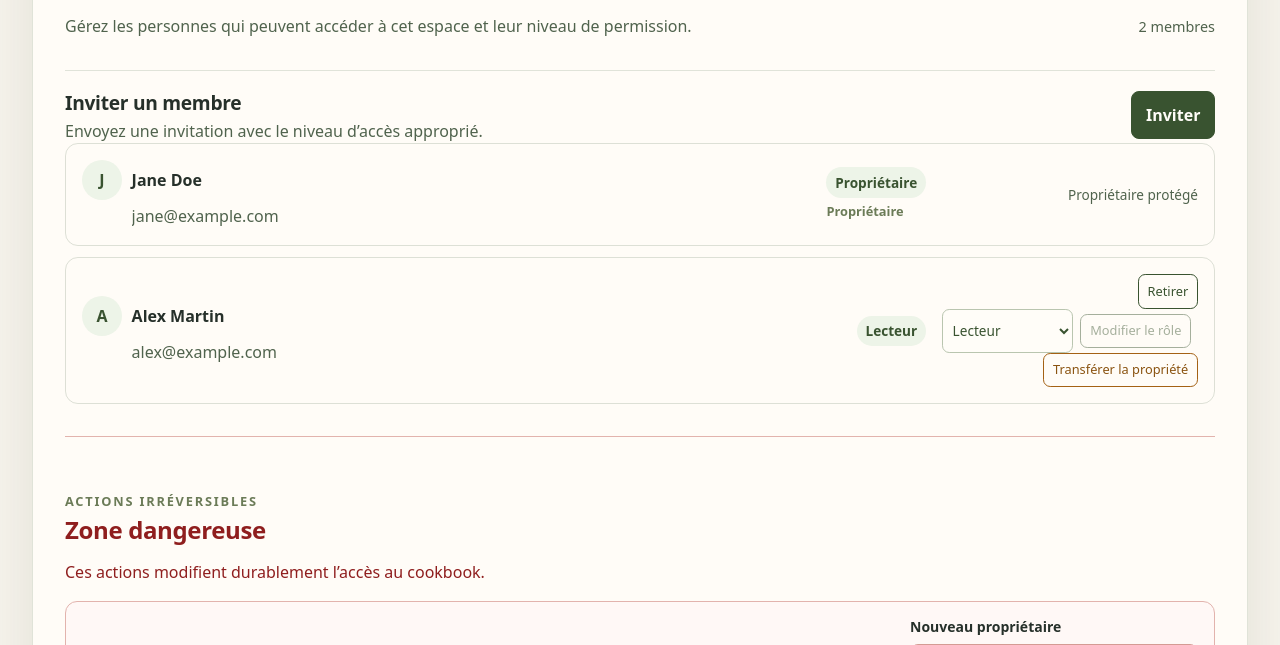
Scenario: CookbookView › keeps the confirmation dialog open and announces an authorization error
(page scrolled)
Select "Commentateur" in the dropdown with id "member-role-8" at (1008, 331), box x1=942 y1=309 x2=1073 y2=353
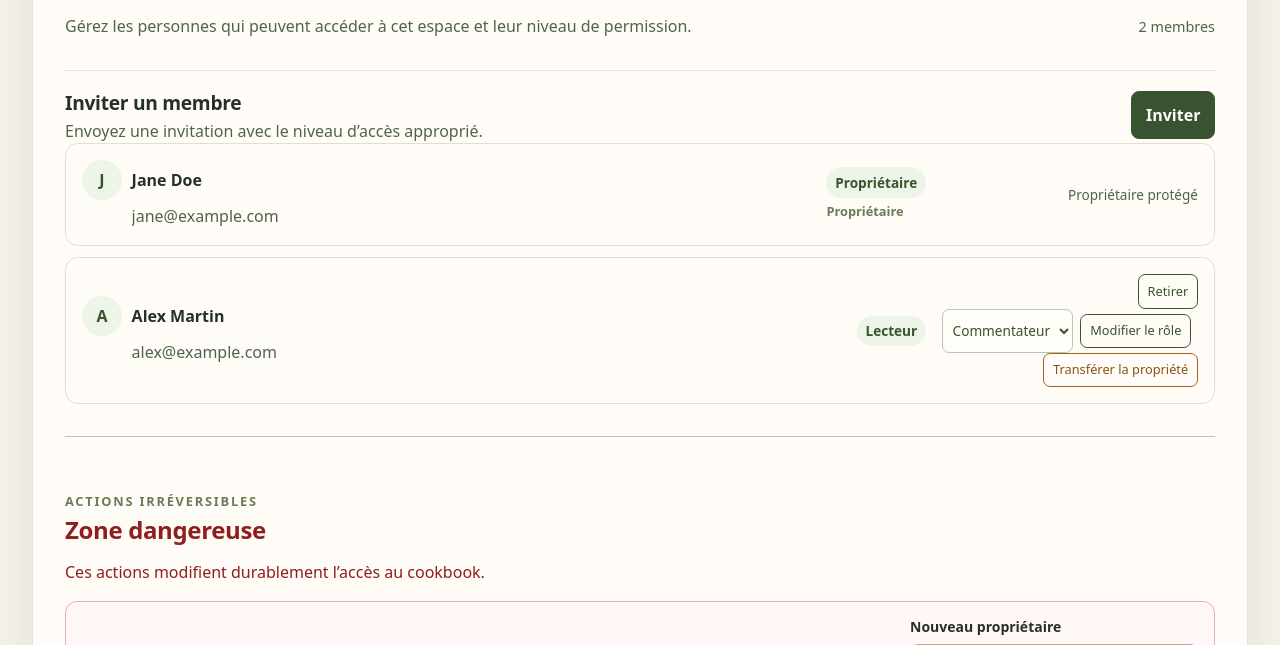
Submit the form with class "member-role-form", box x1=942 y1=309 x2=1198 y2=353
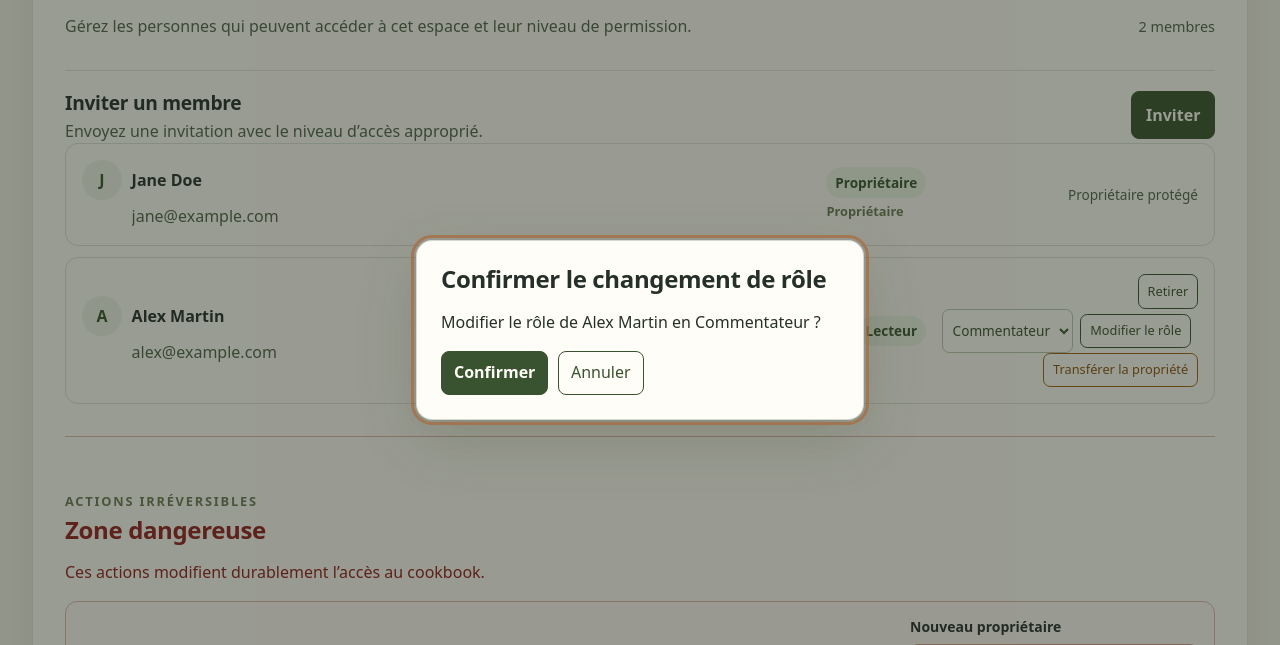
Click the button with class "edit-button" at (495, 373), box x1=441 y1=351 x2=548 y2=395
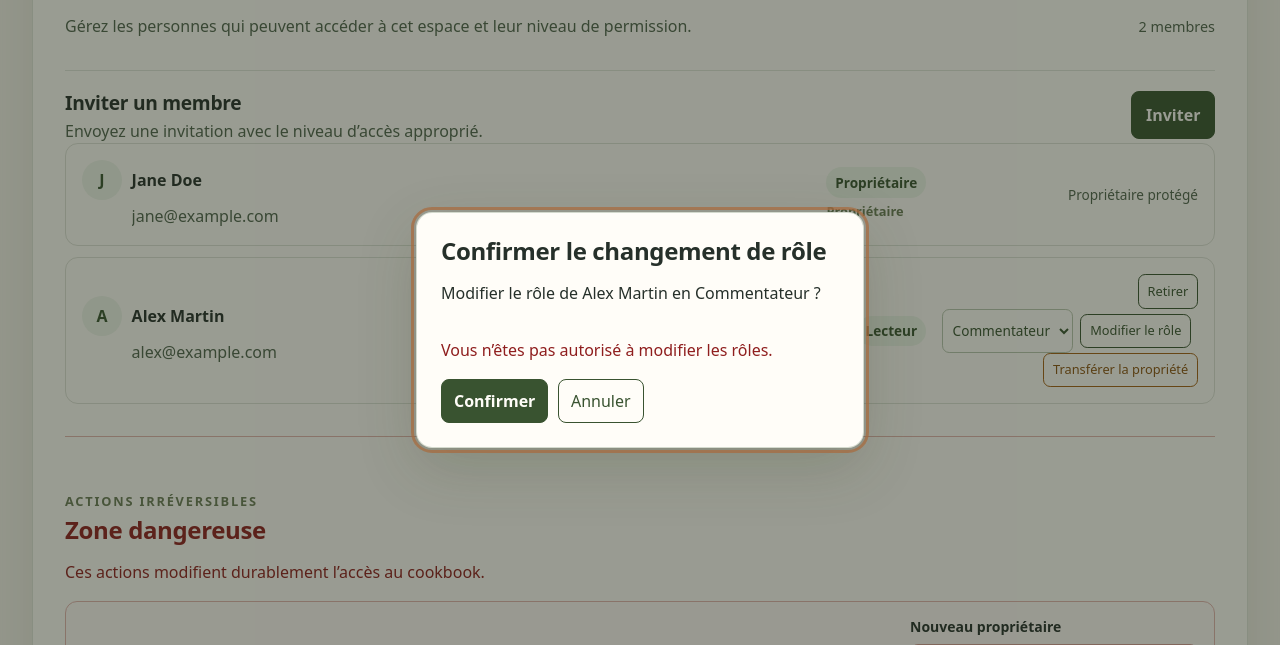
Now the number of dialogs is 1, box x1=416 y1=212 x2=864 y2=448
Now the message "Vous n’êtes pas autorisé à modifier les rôles." is shown, box x1=441 y1=339 x2=773 y2=361
Click the button with class "cancel-button" at (601, 401), box x1=558 y1=379 x2=644 y2=423
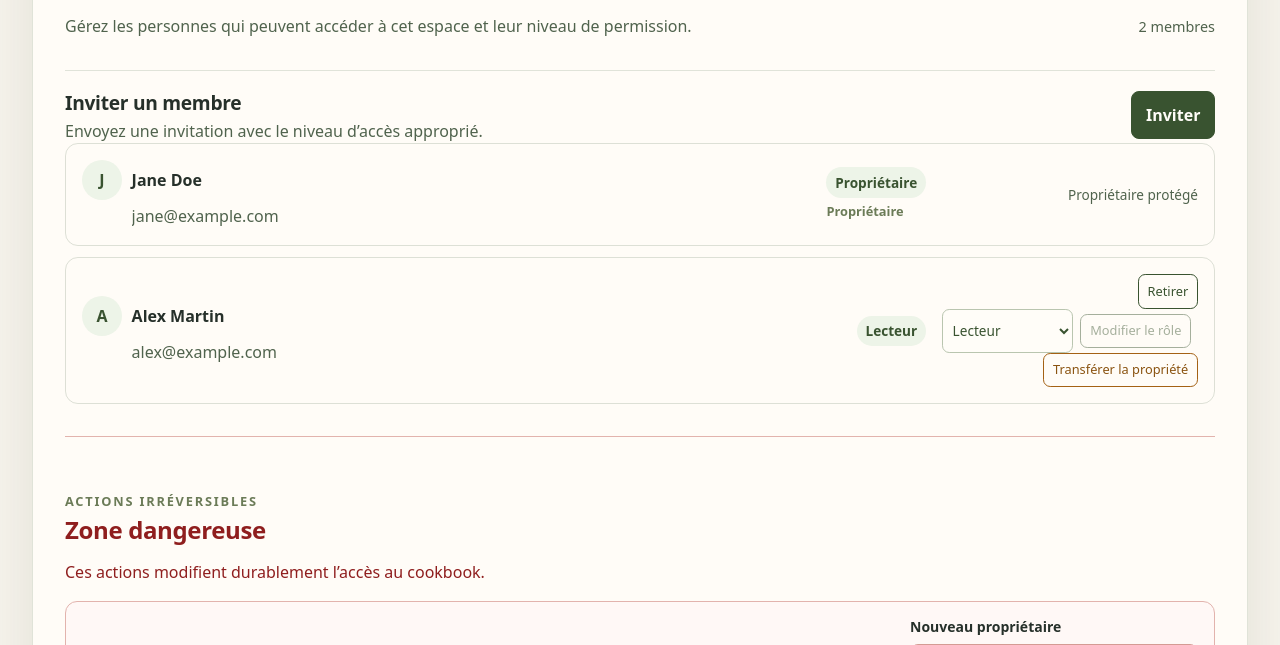
Now no dialogs are shown
